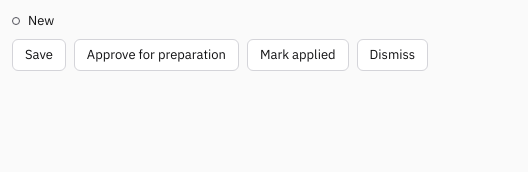
Test: DecisionBar › says why when the server refuses
Click the button with aria-label "Approve for preparation:": (156,55) [74, 39, 239, 71]
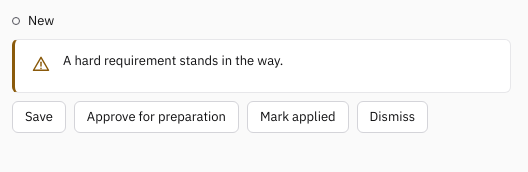
Expected: the text "A hard requirement stands in the way." is shown, [63, 52, 283, 69]
